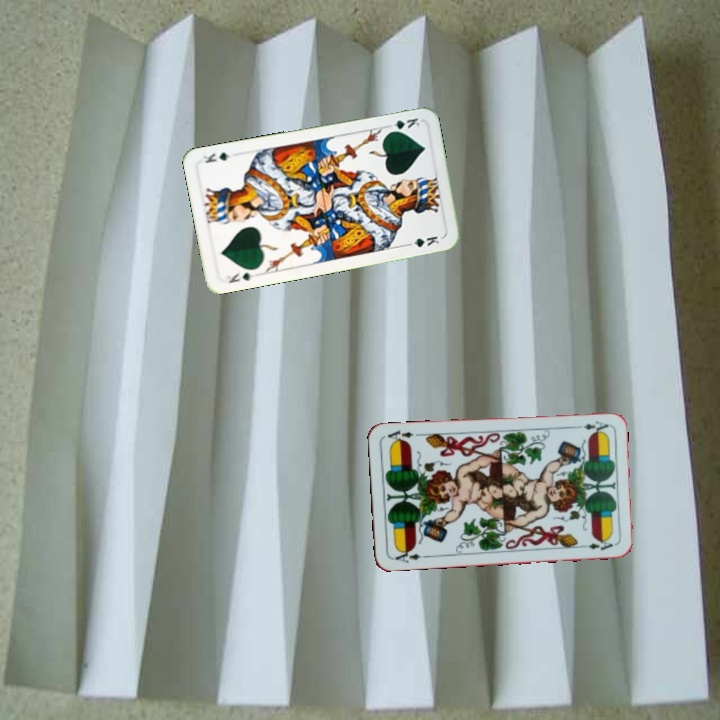EA: (392, 545, 429, 565), (571, 417, 611, 434)
GK: (382, 114, 422, 135), (223, 268, 256, 286)
